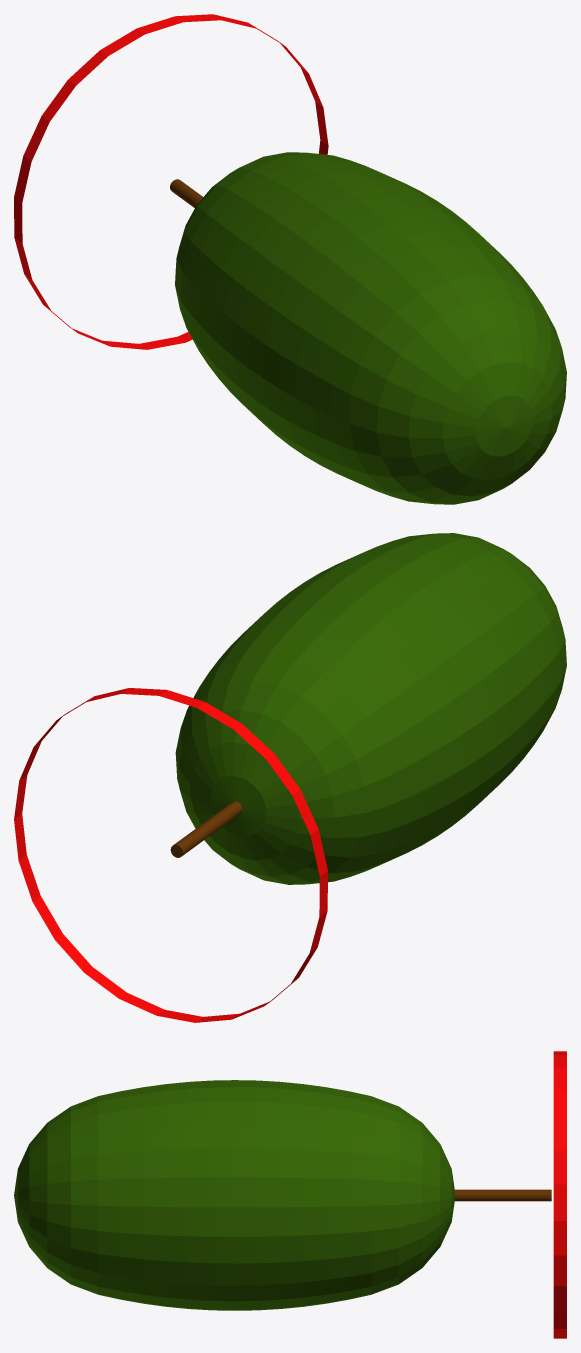
The model's file is LPo28m.obj.
3 renders of one model, top to bottom at view 1: azimuth 30°, elevation 25°; view 2: azimuth 150°, elevation 25°; view 3: azimuth 270°, elevation 25°, orthographic. The views are drawn at different scales.
Size of the model in its own units: 14.97 by 15 by 28.8.
